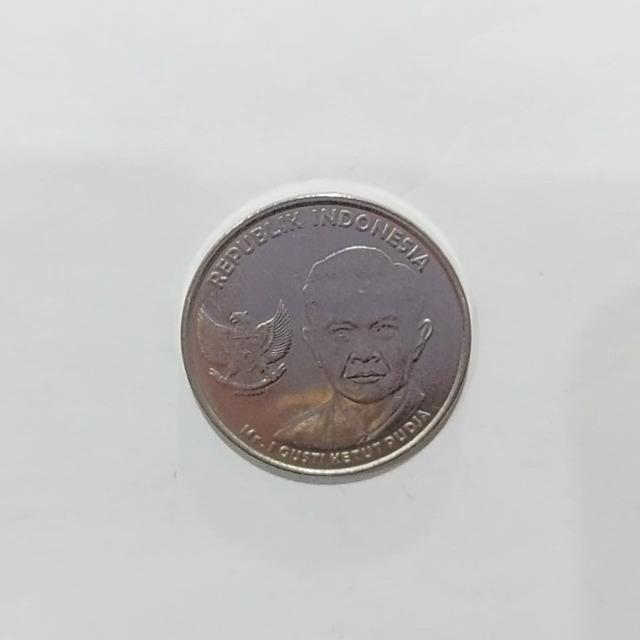Rp100: (179, 189, 473, 481)
